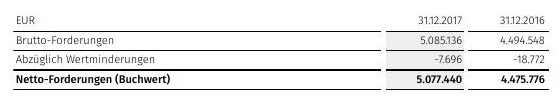table: (0, 0, 560, 102)
